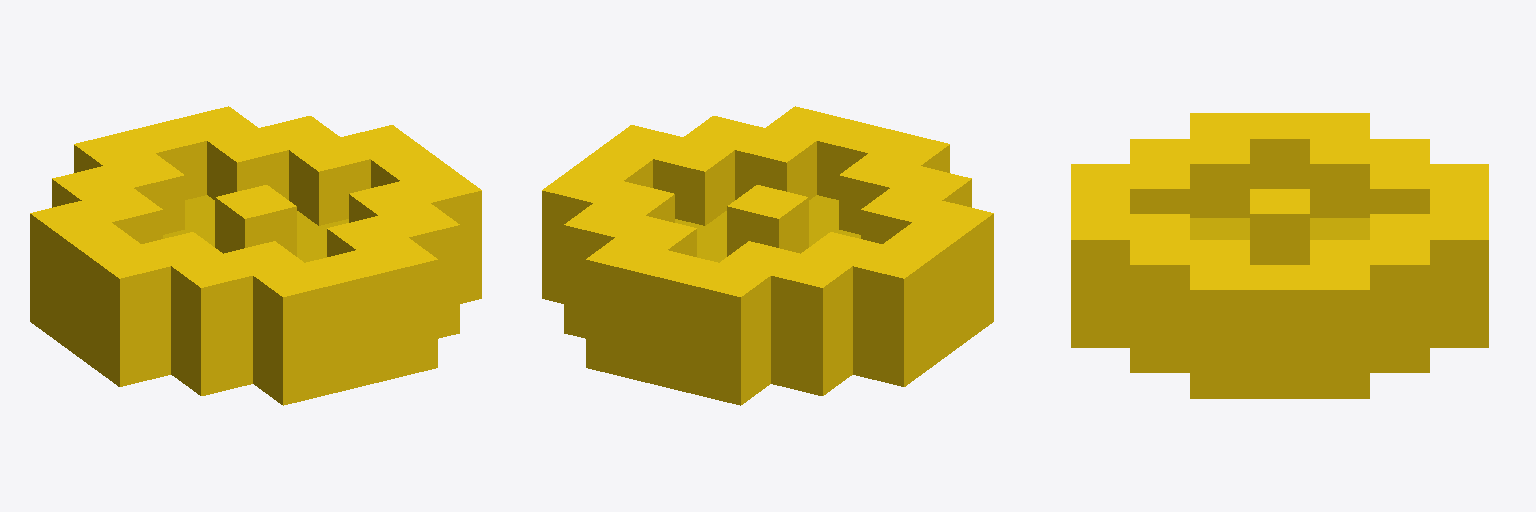
The picture shows the model from 3 angles: view 1: azimuth 30°, elevation 25°; view 2: azimuth 150°, elevation 25°; view 3: azimuth 270°, elevation 25°; orthographic projection.
Parts seen in each view (by area): view 1: object 1; view 2: object 1; view 3: object 1.
Boxes of the visible parts, box(x1,y1,x2,y2) form: object 1: box(30, 106, 481, 405); object 1: box(542, 106, 993, 405); object 1: box(1071, 113, 1488, 398).
Size of the model in its own units: 0.7 by 0.2 by 0.7.
Materials: 1 (1 with a texture image).